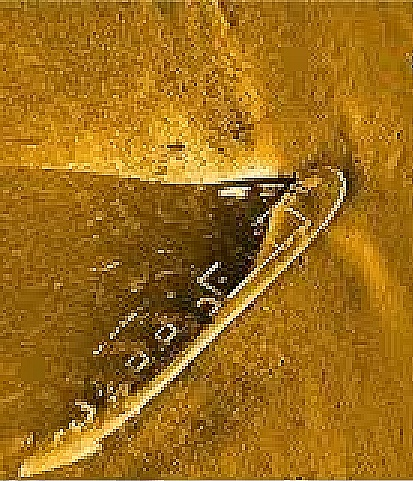ship: (17, 164, 348, 478)
